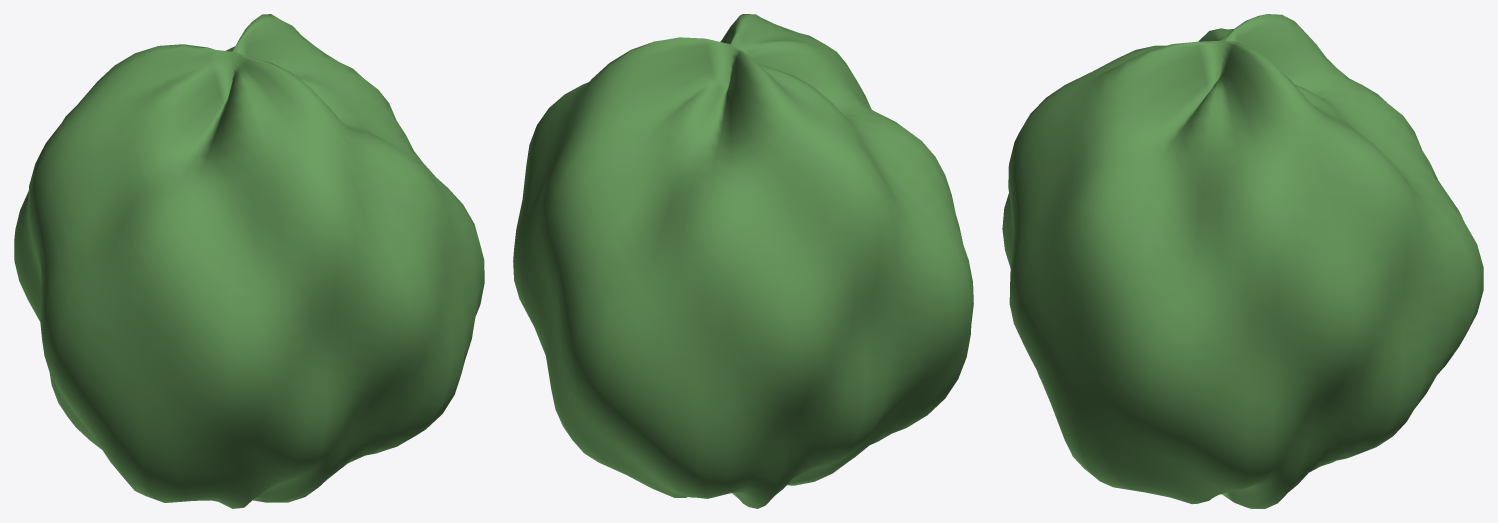
File: canopy.glb
3 views of the same model, side by side, from view 1: azimuth 30°, elevation 25°; view 2: azimuth 150°, elevation 25°; view 3: azimuth 270°, elevation 25° (orthographic).
Parts seen in each view (by area): view 1: canopy; view 2: canopy; view 3: canopy.
Boxes of the visible parts, bbox=[...] form: canopy: bbox=[14, 14, 484, 508]; canopy: bbox=[513, 14, 973, 508]; canopy: bbox=[1002, 14, 1483, 508].
Bounding box in the file's own units: 2.16 × 2.24 × 2.11.
